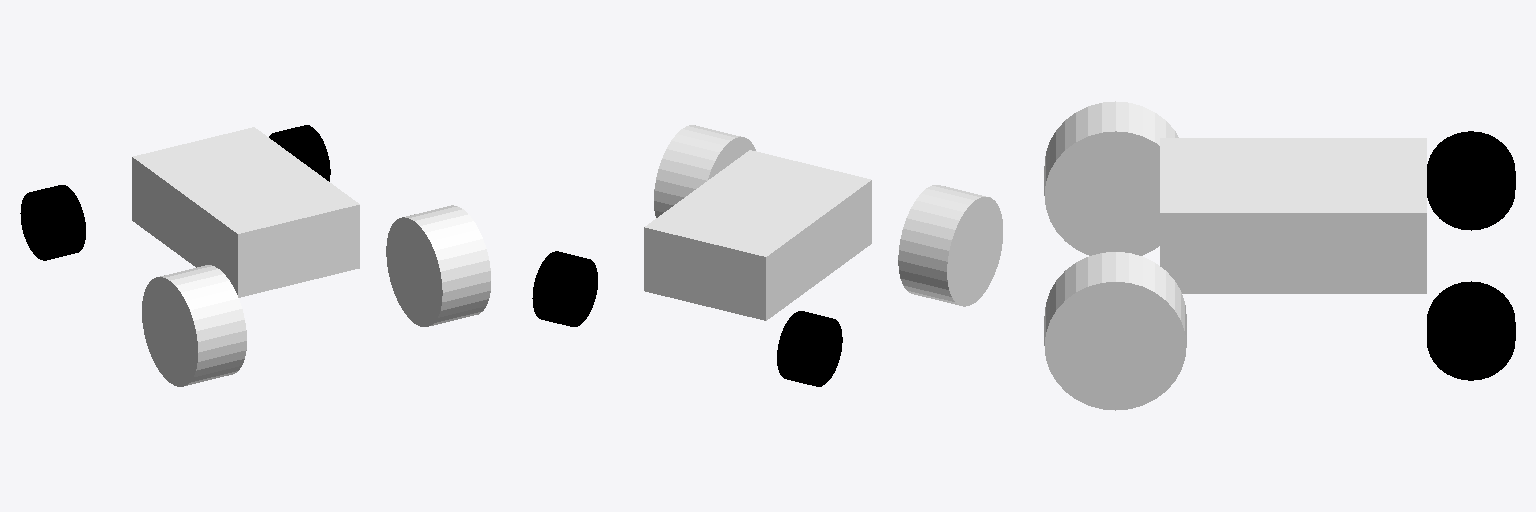
URDF robot description (car):
<!-- 
    需求: 长方体

 -->


<robot name="car">     
    <link name="base_link">
           <visual>
                 <geometry>
                       <box size="0.2 .3 .1"/>
                 </geometry>
            <origin rpy="0 0 0" xyz="0 0 0.05"/>
            <material name="white">
                <color rgba="1 1 1 1"/>
            </material>
           </visual>     
     </link>

     <link name="wheel_1">
           <visual>
                 <geometry>
                       <cylinder length="0.05" radius="0.05"/>
                 </geometry>
            <origin rpy="0 1.57 0" xyz="0.1 0.1 0"/>
               <material name="black">
                <color rgba="0 0 0 1"/>
            </material>
        </visual>
     </link>

     <link name="wheel_2">
           <visual>
                 <geometry>
                       <cylinder length="0.05" radius="0.05"/>
                 </geometry>
            <origin rpy="0 1.57 0" xyz="-0.1 0.1 0"/>
               <material name="black"/>
           </visual>
     </link>

     <link name="wheel_3">
           <visual>
                 <geometry>
                       <cylinder length="0.08" radius="0.08"/>
                 </geometry>
            <origin rpy="0 1.57 0" xyz="0.1 -0.1 0"/>
               <material name="white"/>
           </visual>
     </link>

     <link name="wheel_4">
           <visual>
                 <geometry>
                       <cylinder length="0.08" radius="0.08"/>
                 </geometry>
            <origin rpy="0 1.57 0" xyz="-0.1 -0.1 0"/>
               <material name="white"/>
           </visual>
     </link>

     <joint name="base_to_wheel1" type="fixed">
           <parent link="base_link"/>
           <child link="wheel_1"/>
           <origin xyz="0.1 0.1 0"/>
     </joint>

     <joint name="base_to_wheel2" type="fixed">
           <parent link="base_link"/>
           <child link="wheel_2"/>
           <origin xyz="-0.1 0.1 0"/>
     </joint>

     <joint name="base_to_wheel3" type="fixed">
           <parent link="base_link"/>
           <child link="wheel_3"/>
           <origin xyz="0.1 -0.1 0"/>
     </joint>

     <joint name="base_to_wheel4" type="fixed">
           <parent link="base_link"/>
           <child link="wheel_4"/>
           <origin xyz="-0.1 -0.1 0"/>
     </joint>
</robot>

--- Render facts (derived) ---
Views: 3 orthographic renders of the robot side by side, from view 1: azimuth 30°, elevation 25°; view 2: azimuth 150°, elevation 25°; view 3: azimuth 270°, elevation 25°.
Robot: car — 5 links, 4 joints (4 fixed); root link base_link; default pose: every joint at zero.
Links seen in each view (by area): view 1: base_link, wheel_4, wheel_3, wheel_2, wheel_1; view 2: base_link, wheel_4, wheel_3, wheel_2, wheel_1; view 3: base_link, wheel_3, wheel_4, wheel_1, wheel_2.
Link boxes in pixels (x1,y1,x2,y2): base_link: [132, 127, 359, 297]; wheel_4: [142, 265, 246, 386]; wheel_3: [386, 205, 490, 326]; wheel_2: [20, 185, 85, 260]; wheel_1: [269, 125, 330, 181]; base_link: [644, 150, 871, 320]; wheel_4: [898, 185, 1002, 306]; wheel_3: [654, 125, 755, 217]; wheel_2: [777, 311, 842, 386]; wheel_1: [532, 251, 597, 326]; base_link: [1160, 138, 1426, 293]; wheel_3: [1044, 252, 1186, 410]; wheel_4: [1044, 101, 1178, 255]; wheel_1: [1427, 281, 1515, 380]; wheel_2: [1427, 131, 1515, 230].
Bounding box of the posed robot: 0.4801 × 0.53 × 0.18 m (x, y, z).
Geometry: primitives only (box / cylinder / sphere), no mesh files.
